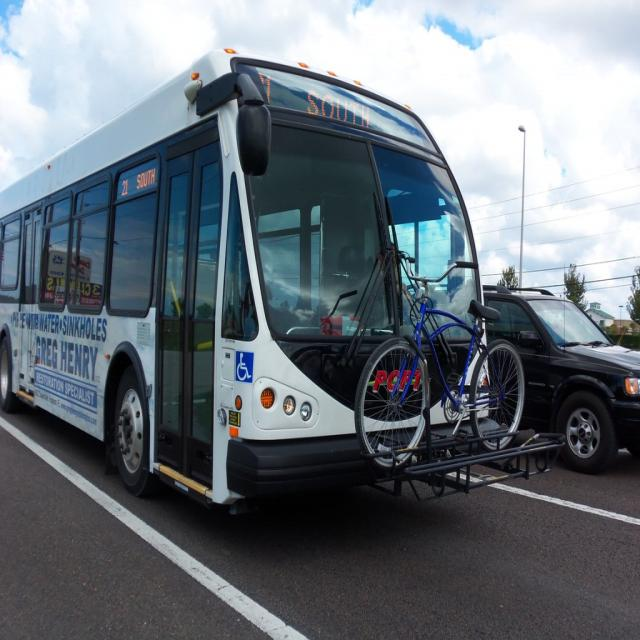other: (479, 286, 639, 470)
